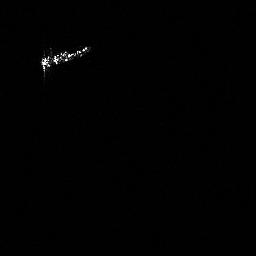ship: (38, 43, 90, 76)
